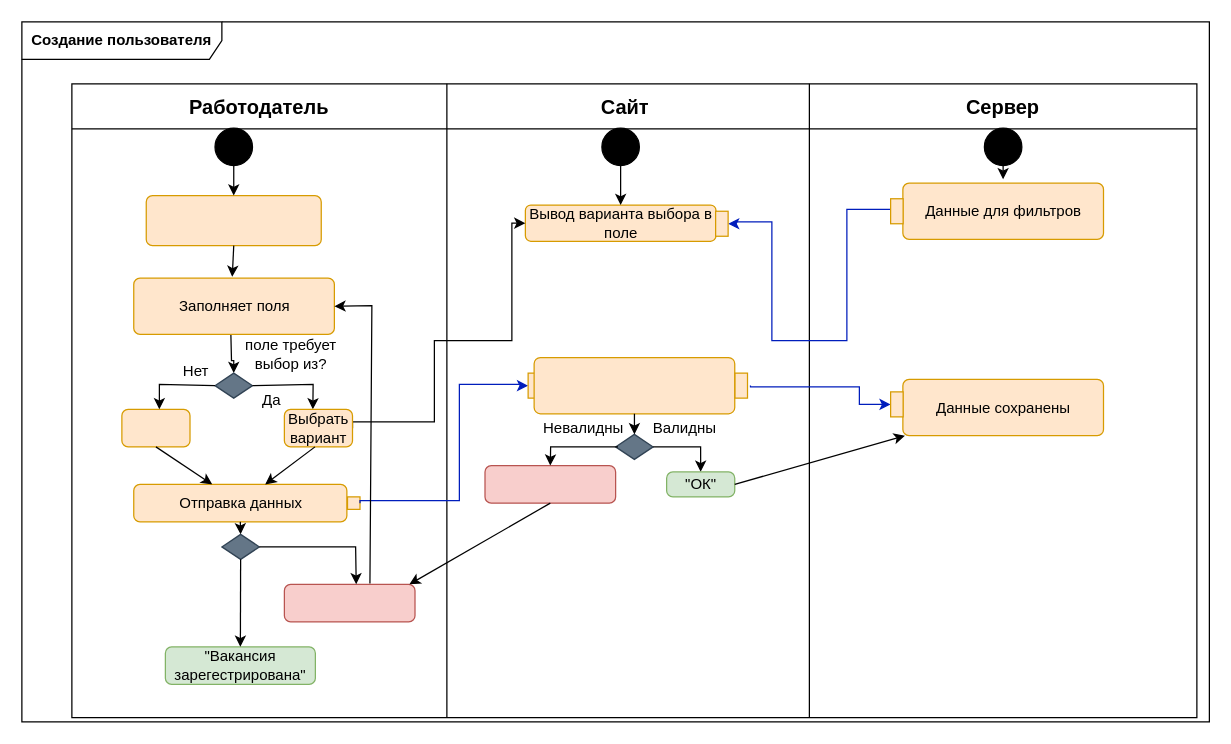
Image size: 1231x744. Some labels were removed from this diagram. The shapes that lost their labels are listed below. From the top down, each one's centre as x and y in pixels, then its label:
(233,220): Выбирает "Создать предложение о работе"
(634,385): Валидация полей
(155,427): Ручной ввод
(550,483): Вернуть ошибку
(349,602): Сообщение об ошибке
